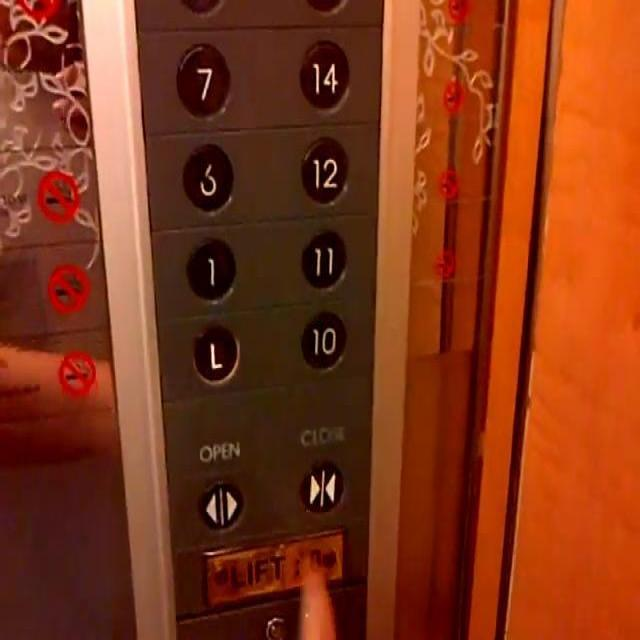1: (183, 236, 239, 307)
10: (297, 308, 347, 373)
11: (300, 228, 349, 295)
12: (296, 132, 354, 209)
14: (297, 34, 350, 114)
7: (174, 40, 235, 123)
L: (187, 322, 244, 387)
blur: (180, 140, 234, 216)
close: (298, 453, 346, 515)
open: (196, 475, 245, 533)
